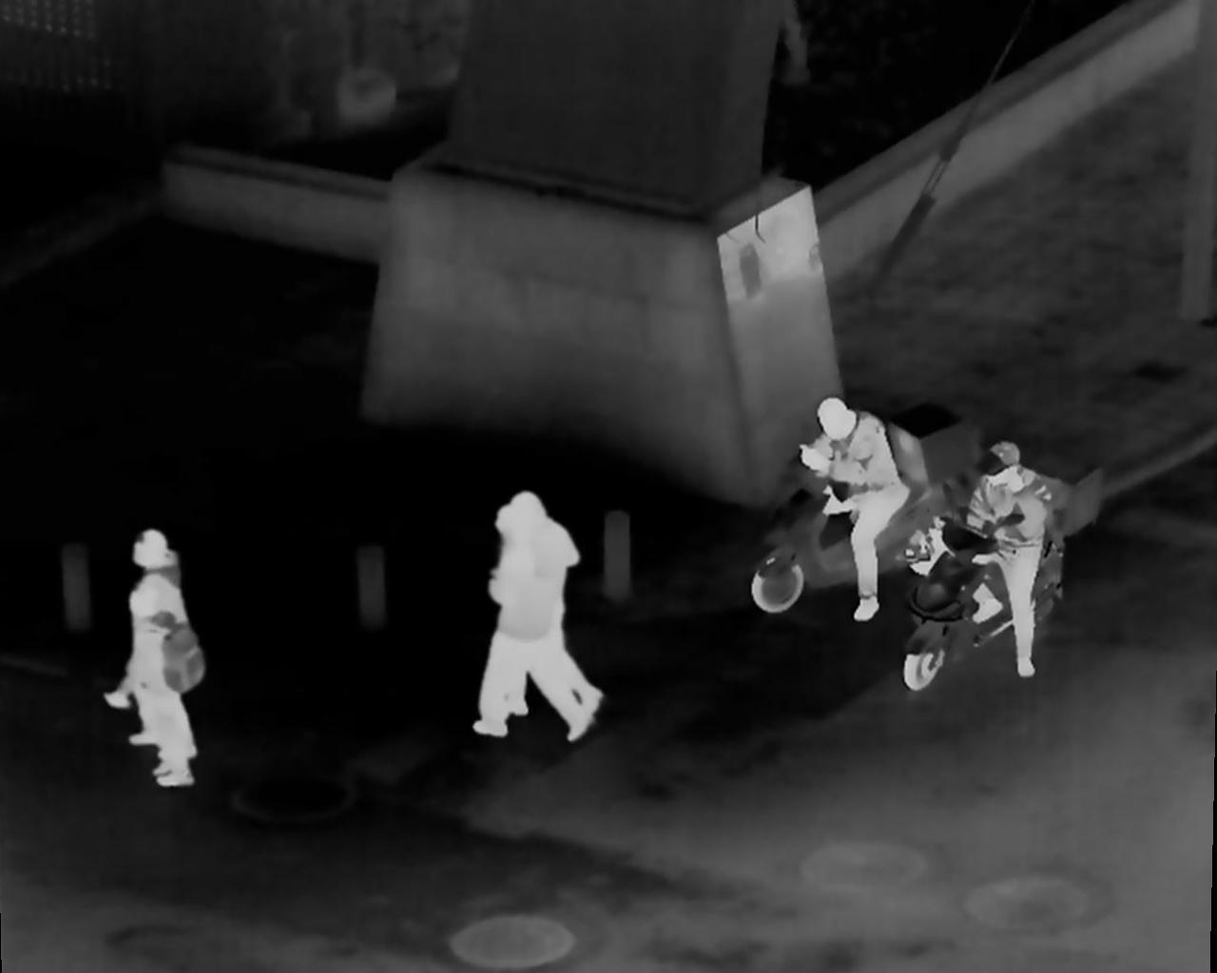person: (477, 496, 604, 742), (794, 390, 929, 616), (471, 504, 589, 743), (102, 523, 202, 743), (960, 446, 1060, 650), (129, 588, 210, 791)
